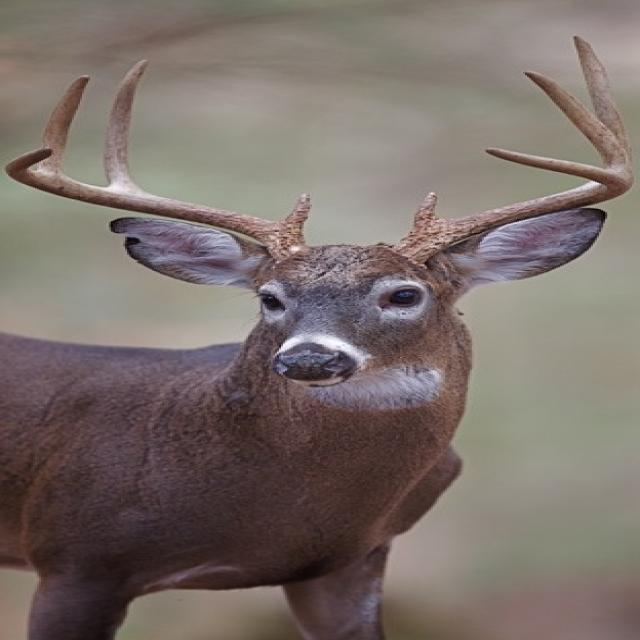L-F: (388, 146, 632, 268)
L-G1: (411, 191, 445, 229)
L-G3: (521, 70, 633, 185)
R-F: (3, 147, 310, 262)
R-G1: (279, 193, 312, 231)
R-G2: (102, 59, 150, 190)
